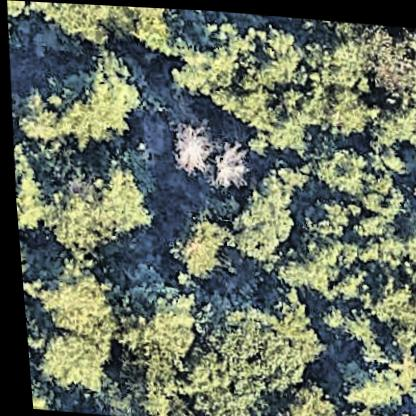tree-top: (199, 283, 325, 394), (33, 149, 151, 256), (36, 35, 150, 145), (172, 19, 275, 126), (24, 253, 123, 342), (105, 278, 204, 366), (329, 338, 416, 409), (24, 324, 111, 394), (224, 183, 299, 260), (24, 1, 137, 52), (161, 201, 233, 280), (352, 187, 416, 273), (265, 231, 344, 300), (246, 16, 312, 91), (249, 369, 338, 416), (176, 362, 251, 416), (296, 183, 358, 247), (354, 29, 416, 90), (312, 80, 374, 141), (305, 30, 372, 85), (115, 357, 177, 416), (310, 139, 373, 197), (9, 142, 51, 229), (8, 86, 68, 146), (366, 263, 416, 332), (261, 83, 311, 150), (130, 6, 191, 60), (362, 89, 416, 147), (162, 120, 209, 171), (207, 138, 250, 188), (310, 296, 339, 329)
